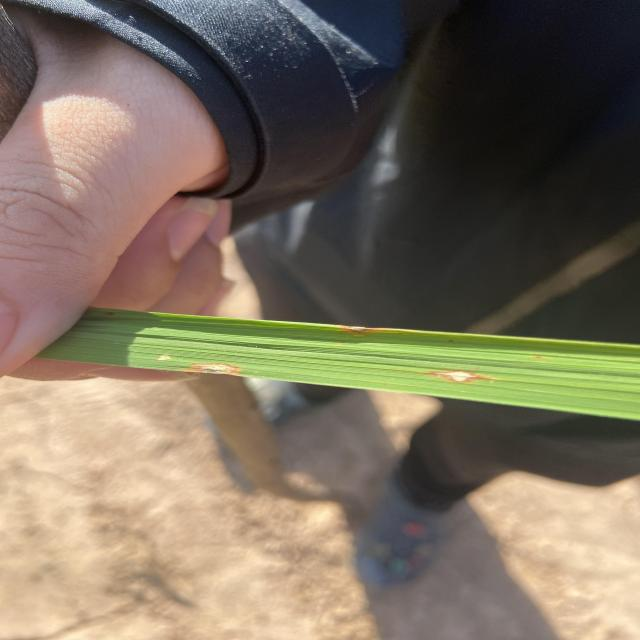Dao on: (183, 363, 241, 375), (427, 371, 480, 382), (340, 325, 368, 333)
